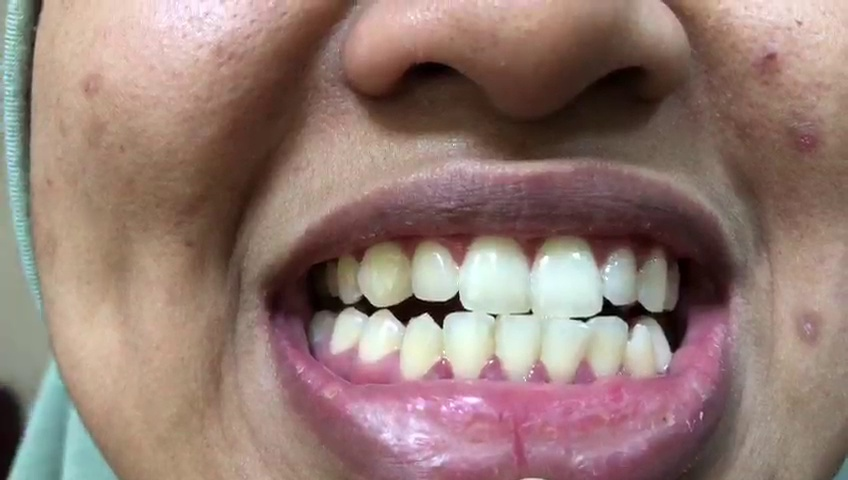1st Molar: (307, 306, 335, 345)
1st Premolar: (360, 305, 402, 365), (641, 316, 673, 376), (337, 249, 361, 305), (667, 259, 678, 312)
2nd Premolar: (330, 304, 365, 359)
Canine: (360, 240, 413, 308), (401, 312, 444, 379), (635, 248, 667, 314), (623, 324, 653, 385)
Central Incisor: (533, 228, 604, 318), (458, 234, 534, 316), (541, 317, 590, 386), (496, 313, 540, 383)
Lateral Incisor: (444, 310, 496, 379), (407, 240, 458, 302), (584, 316, 625, 379), (598, 249, 637, 306)
